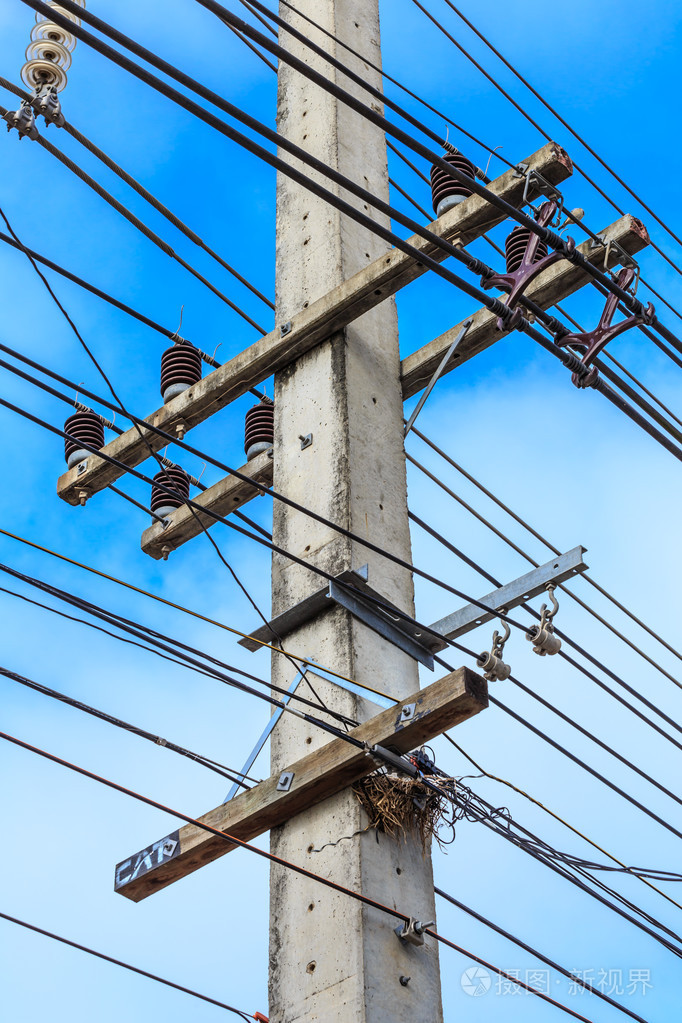insulator: (23, 1, 89, 86)
